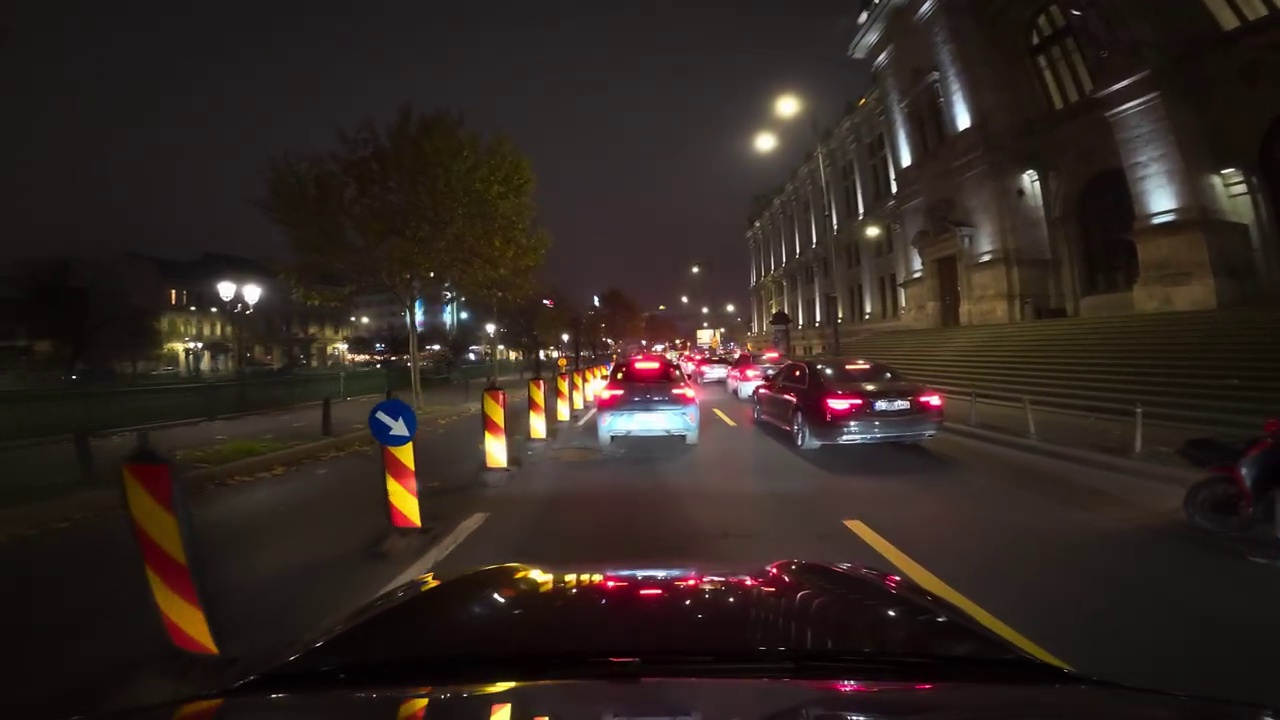acesa: (764, 97, 801, 139), (772, 93, 803, 120), (751, 130, 780, 156), (862, 222, 885, 245)
